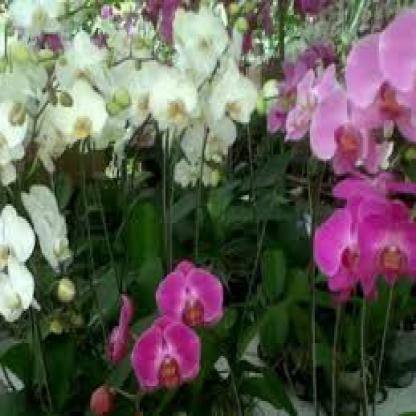ANGGREK: (12, 3, 252, 218), (274, 12, 415, 321), (128, 254, 251, 378)
